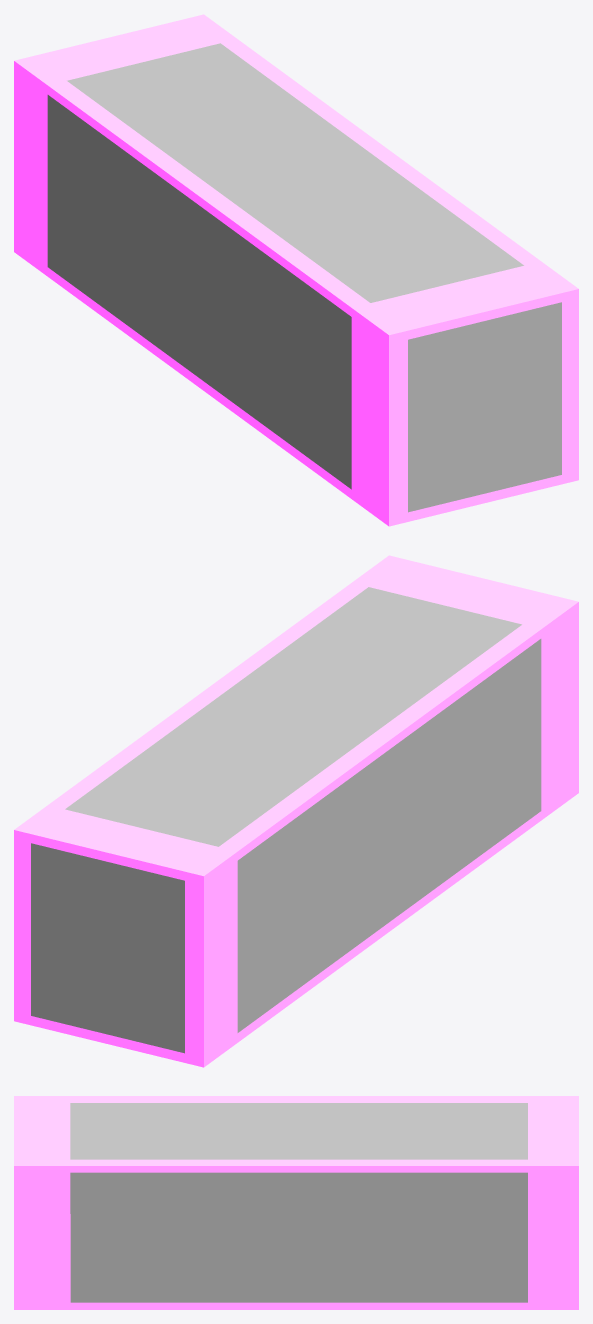
The model's file is Wide obstacle .fbx.
The picture shows the model from 3 angles, top to bottom: view 1: azimuth 30°, elevation 25°; view 2: azimuth 150°, elevation 25°; view 3: azimuth 270°, elevation 25°; orthographic projection. The views are drawn at different scales.
Parts seen in each view (by area): view 1: Cube.002; view 2: Cube.002; view 3: Cube.002.
Part boxes in pixels (box(x1,y1,x2,y2)): Cube.002: box(14, 14, 578, 526); Cube.002: box(14, 555, 578, 1067); Cube.002: box(14, 1096, 578, 1309).
Bounding box in the file's own units: 200 × 193 × 684.
